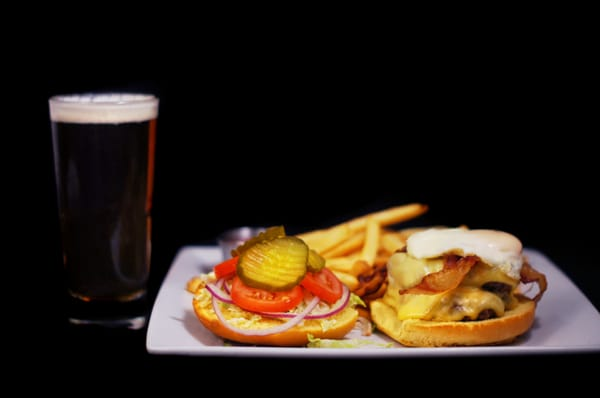pizza: (48, 88, 160, 311)
soup: (368, 226, 547, 346), (186, 230, 368, 345)
